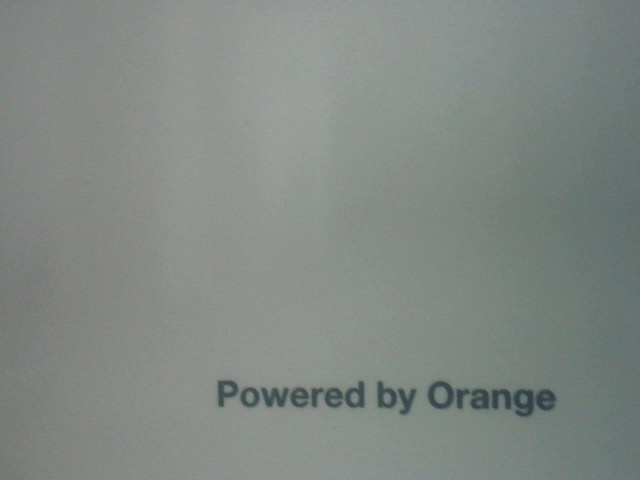AS_PowerByOrange: (200, 375, 573, 426)
